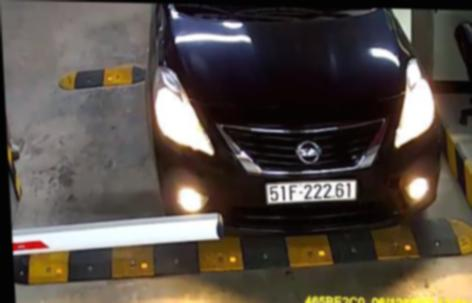License_Plate: (260, 174, 359, 208)
